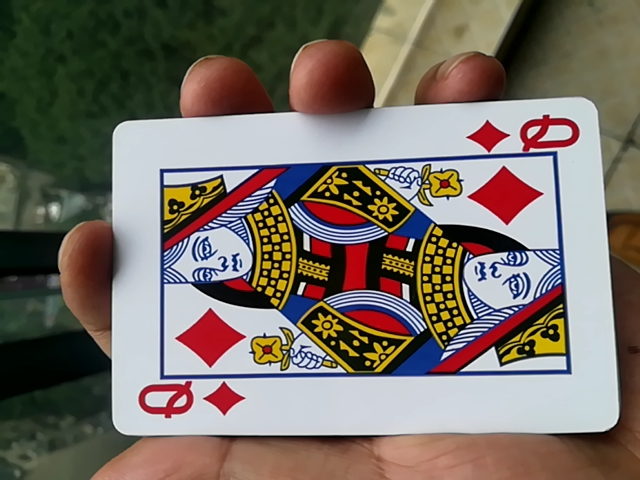fk q: (94, 107, 618, 449)
